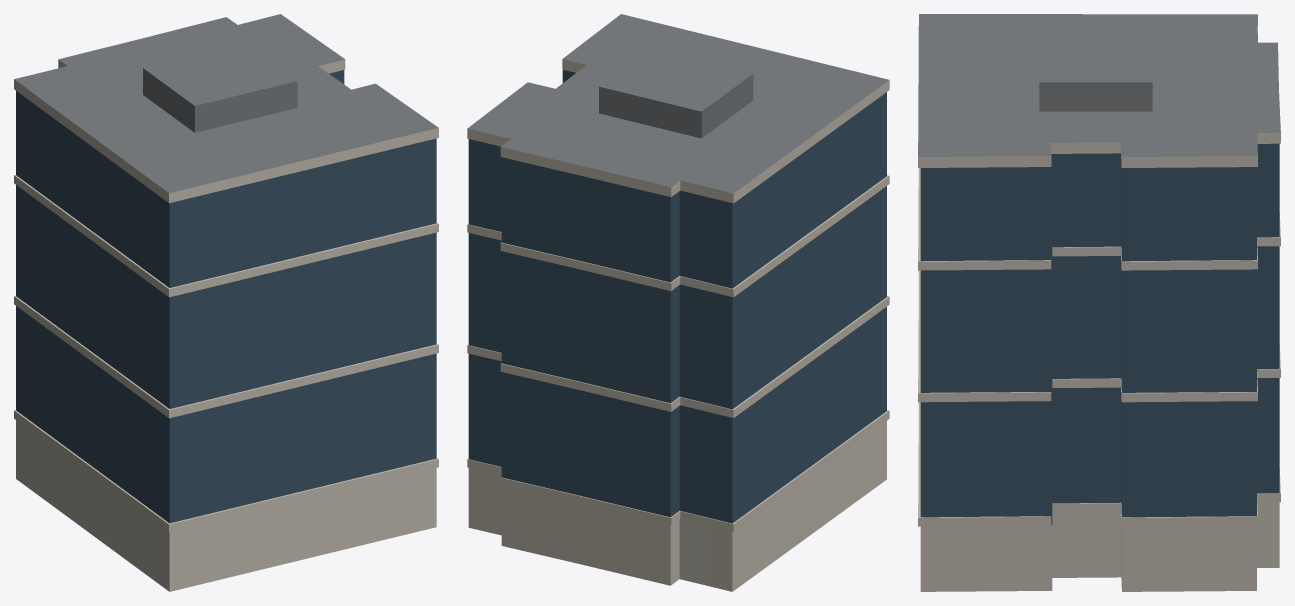
The model's file is 310_south_main_street.glb.
3 renders of one model, left to right at view 1: azimuth 30°, elevation 25°; view 2: azimuth 150°, elevation 25°; view 3: azimuth 270°, elevation 25°, orthographic. The views are drawn at different scales.
Parts seen in each view (by area): view 1: 310_South_Main_Street; view 2: 310_South_Main_Street; view 3: 310_South_Main_Street.
Boxes of the visible parts, x1,y1,x2,y2 form: 310_South_Main_Street: [14, 14, 438, 591]; 310_South_Main_Street: [467, 14, 889, 591]; 310_South_Main_Street: [918, 14, 1280, 591].
Bounding box in the file's own units: 41.95 × 63.5 × 44.93.
